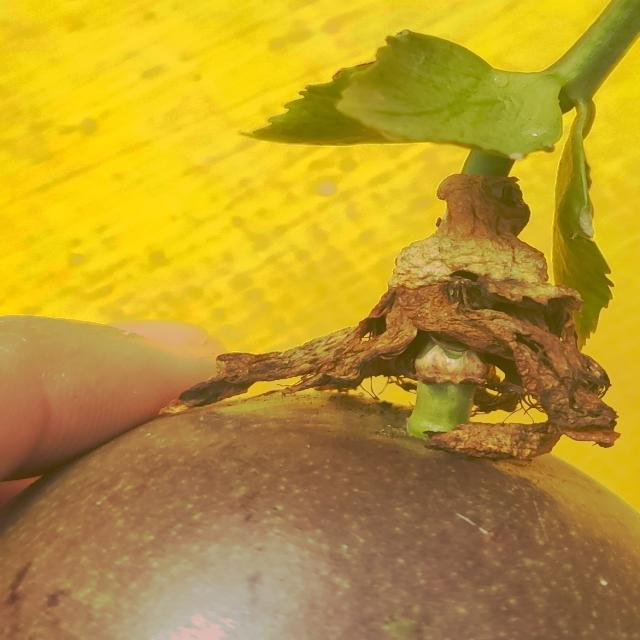Estado-4: (0, 287, 640, 640)
